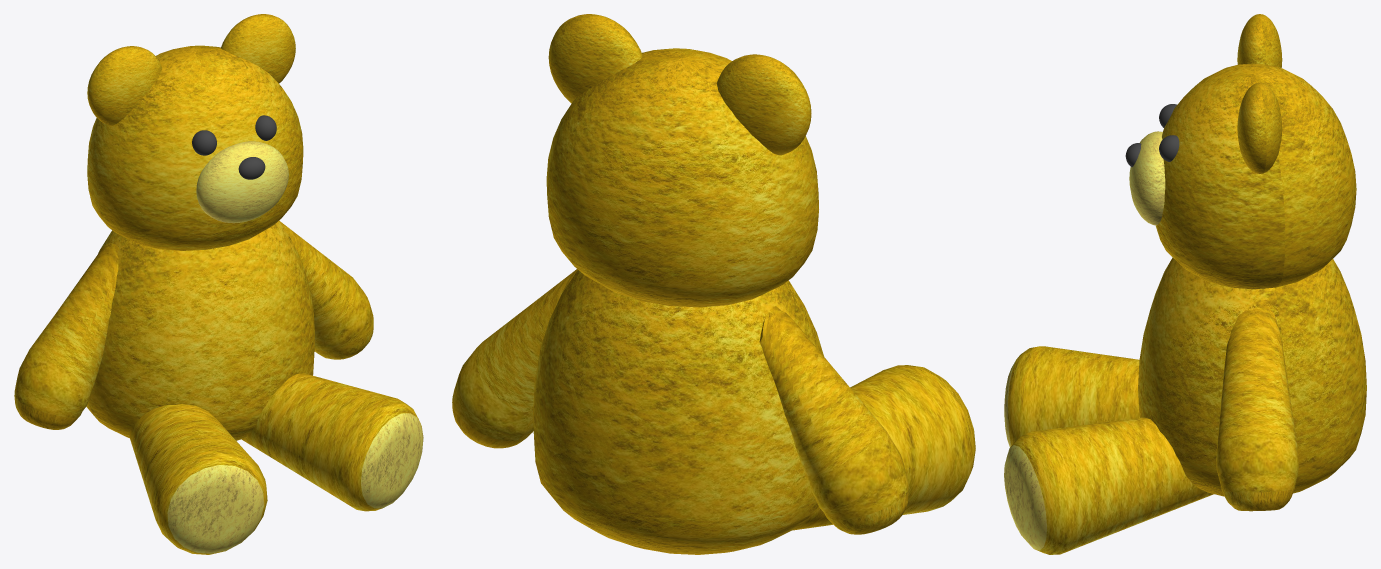
Rendered from Boardwalk_Y_TeddyBear.fbx.
The picture shows the model from 3 angles, left to right: view 1: azimuth 30°, elevation 25°; view 2: azimuth 150°, elevation 25°; view 3: azimuth 270°, elevation 25°; orthographic projection. The views are drawn at different scales.
Visible parts, largest first — view 1: Bear_Body, Bear_Head, Bear_Leg_02, Bear_Leg_01, Bear_Arm_02, Bear_Arm_01, Bear_Mouth, Bear_Ear_02, Bear_Ear_01, Bear_Eye_02; view 2: Bear_Body, Bear_Head, Bear_Arm_02, Bear_Leg_01, Bear_Arm_01, Bear_Ear_02, Bear_Ear_01; view 3: Bear_Head, Bear_Body, Bear_Leg_02, Bear_Arm_01, Bear_Leg_01, Bear_Ear_01, Bear_Mouth, Bear_Ear_02.
Part boxes in pixels (<box>): Bear_Body: <box>86,221,314,440</box>; Bear_Head: <box>87,45,303,250</box>; Bear_Leg_02: <box>242,373,423,511</box>; Bear_Leg_01: <box>129,404,267,554</box>; Bear_Arm_02: <box>14,243,118,429</box>; Bear_Arm_01: <box>279,220,373,359</box>; Bear_Mouth: <box>196,141,288,223</box>; Bear_Ear_02: <box>87,46,162,125</box>; Bear_Ear_01: <box>221,14,295,83</box>; Bear_Eye_02: <box>192,130,216,155</box>; Bear_Body: <box>533,270,823,554</box>; Bear_Head: <box>546,48,818,307</box>; Bear_Arm_02: <box>759,306,908,534</box>; Bear_Leg_01: <box>792,365,975,530</box>; Bear_Arm_01: <box>452,269,577,448</box>; Bear_Ear_02: <box>716,54,811,155</box>; Bear_Ear_01: <box>548,14,642,103</box>; Bear_Head: <box>1156,63,1356,289</box>; Bear_Body: <box>1138,257,1366,496</box>; Bear_Leg_02: <box>1004,417,1213,554</box>; Bear_Arm_01: <box>1216,305,1298,511</box>; Bear_Leg_01: <box>1004,346,1139,447</box>; Bear_Ear_01: <box>1237,82,1282,173</box>; Bear_Mouth: <box>1129,131,1165,225</box>; Bear_Ear_02: <box>1237,14,1282,67</box>.
Bounding box in the file's own units: 2.92 × 3.39 × 2.44.
4 materials, 3 textured.
